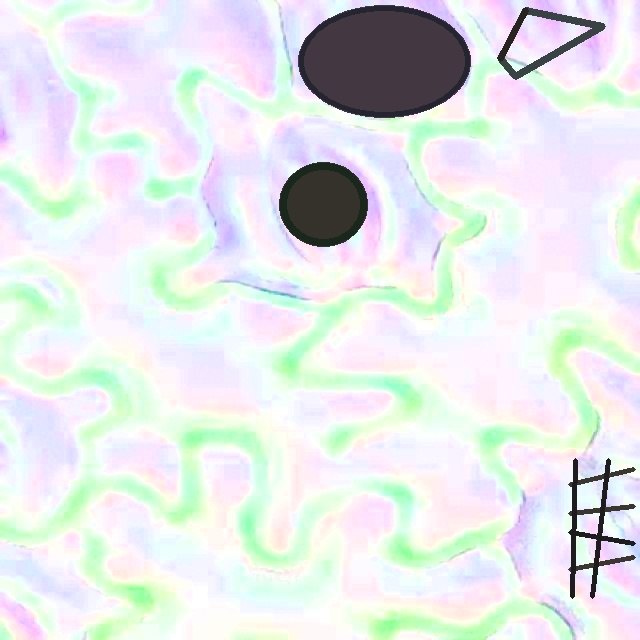open: (298, 5, 470, 117), (568, 458, 635, 598), (498, 8, 605, 79), (280, 163, 367, 246)
